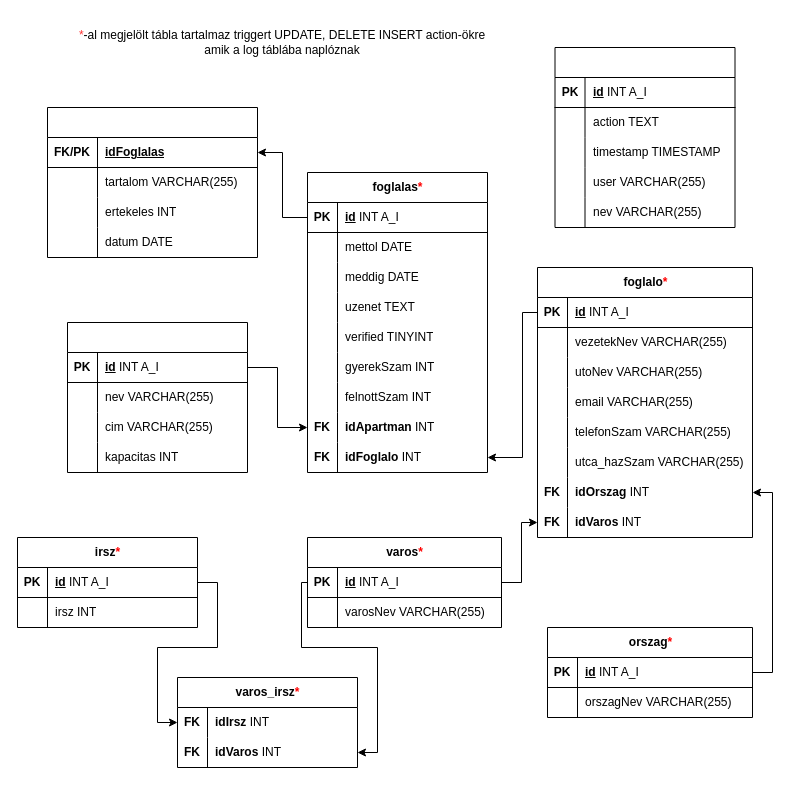
This 798x785 diagram has some shape labels left out. The shapes that lost their labels are listed below. From the top down, each one's box as (x1, y1, x2, y2) in pixels, then its label:
(554, 46, 735, 228): log
(46, 106, 258, 258): ertekelesek *
(66, 322, 248, 472): apartman *
